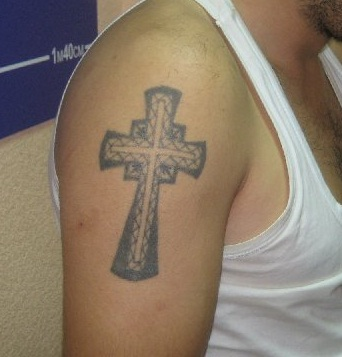tatu9_krest: (100, 80, 205, 287)
